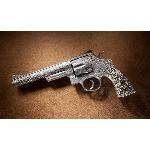Pistol: (10, 48, 138, 106)
